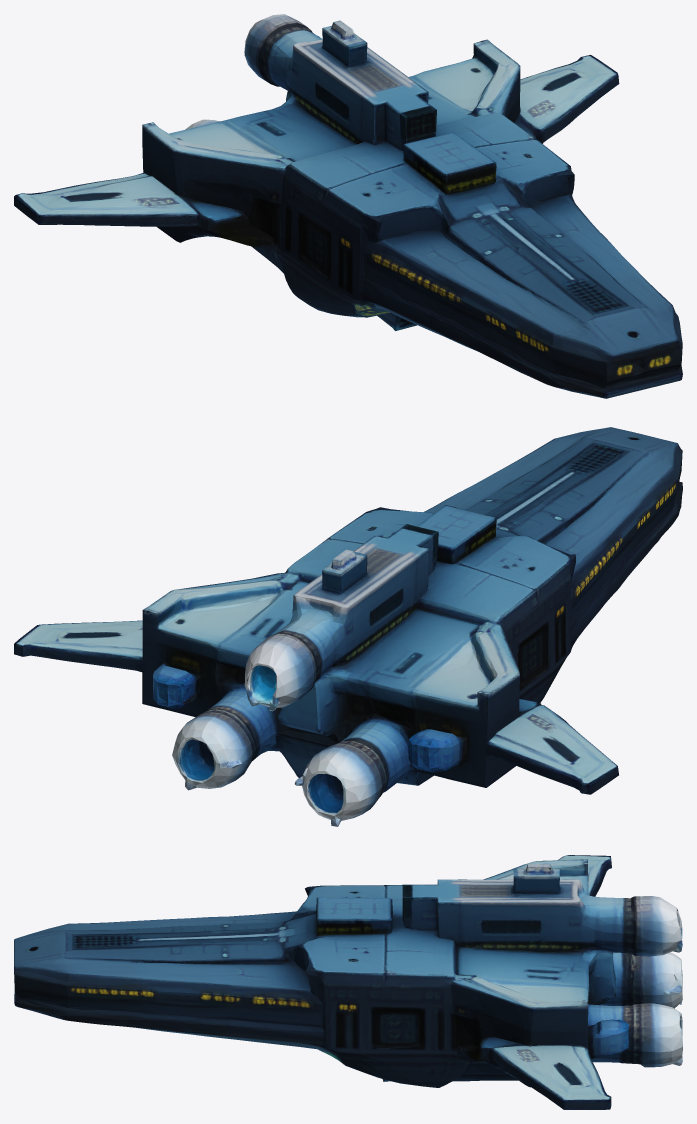
Rendered from Bulwark Battleship.glb.
3 views of the same model, one above another, from view 1: azimuth 30°, elevation 25°; view 2: azimuth 150°, elevation 25°; view 3: azimuth 270°, elevation 25° (orthographic). The views are drawn at different scales.
Parts seen in each view (by area): view 1: world; view 2: world; view 3: world.
Part boxes in pixels (box(x1,y1,x2,y2)): world: box(14, 14, 682, 398); world: box(14, 427, 682, 826); world: box(14, 855, 682, 1109).
Bounding box in the file's own units: 0.8731 × 0.3322 × 1.
Materials: 1 (1 with a texture image).
